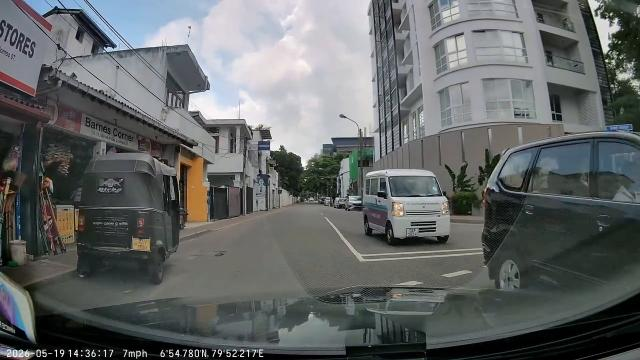number plate: (124, 236, 157, 257)
